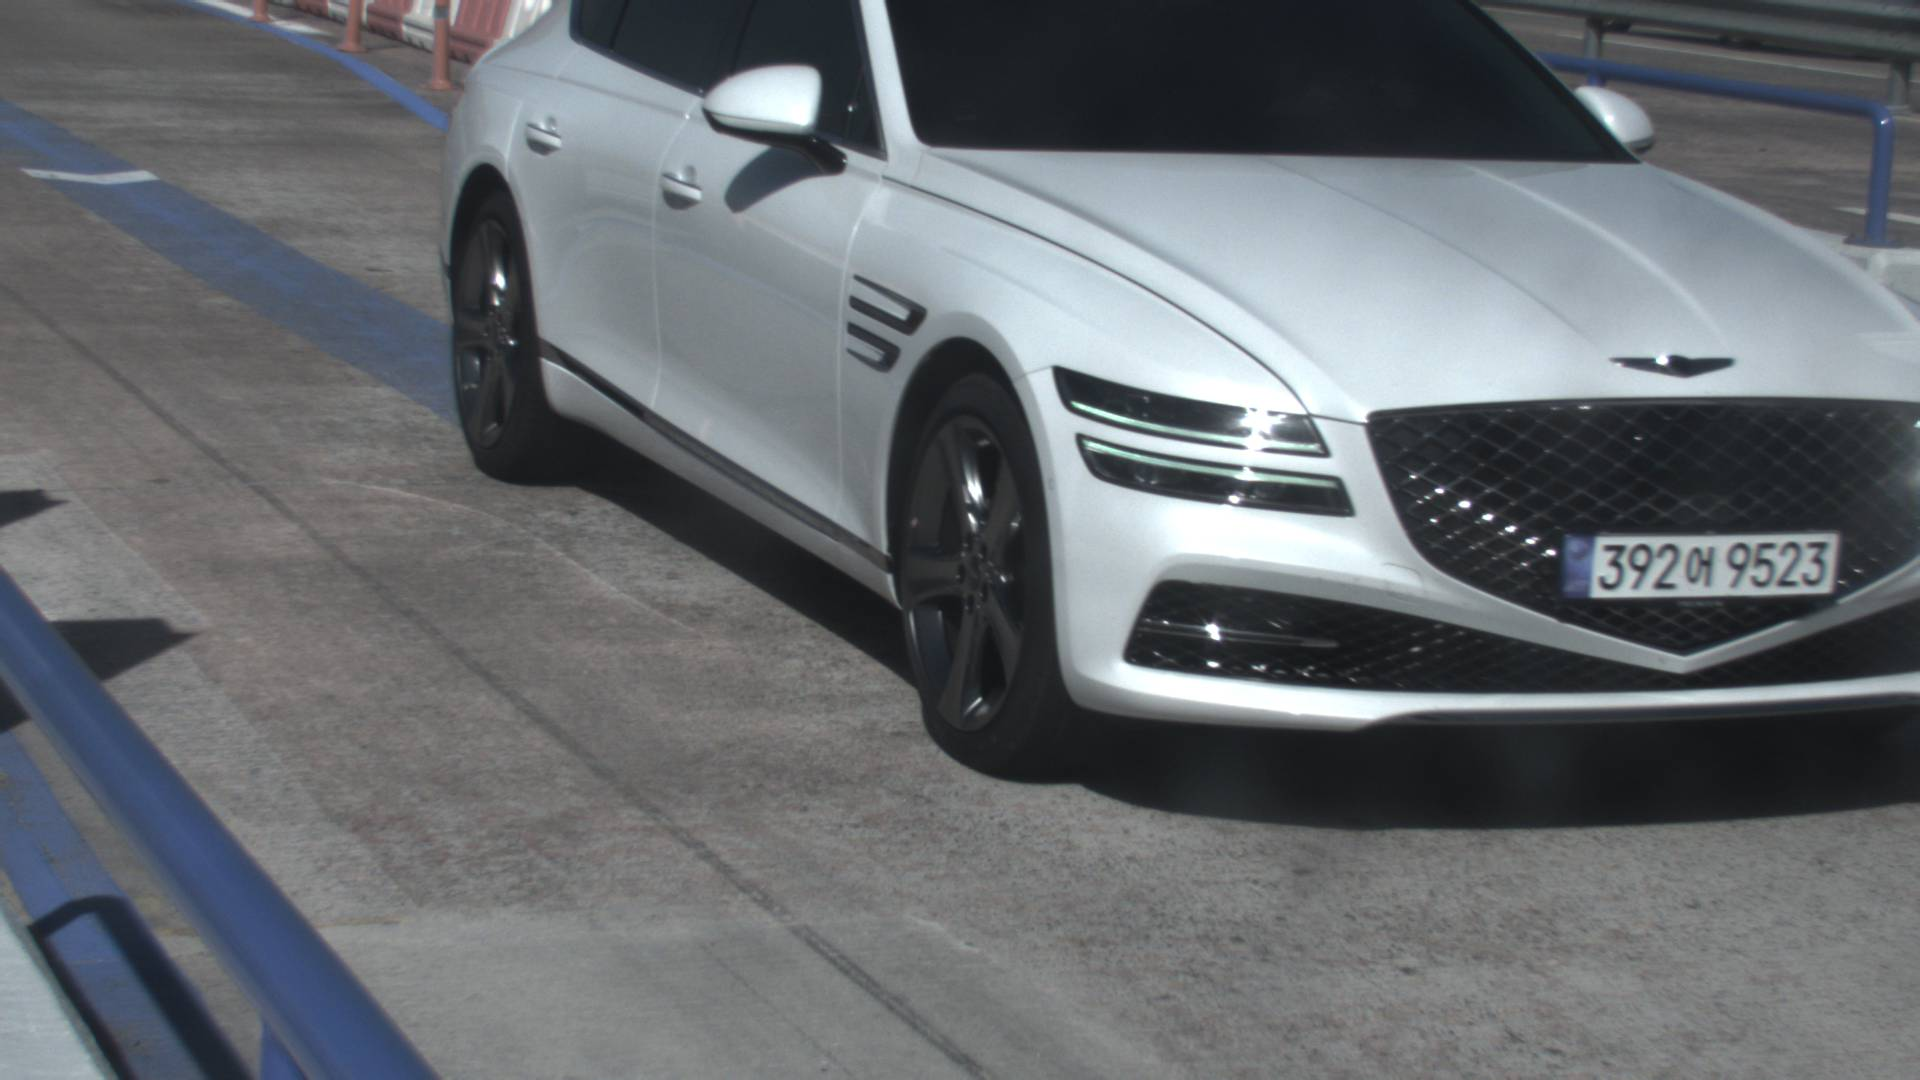car: (423, 1, 1920, 786)
plate: (1559, 526, 1846, 605)
